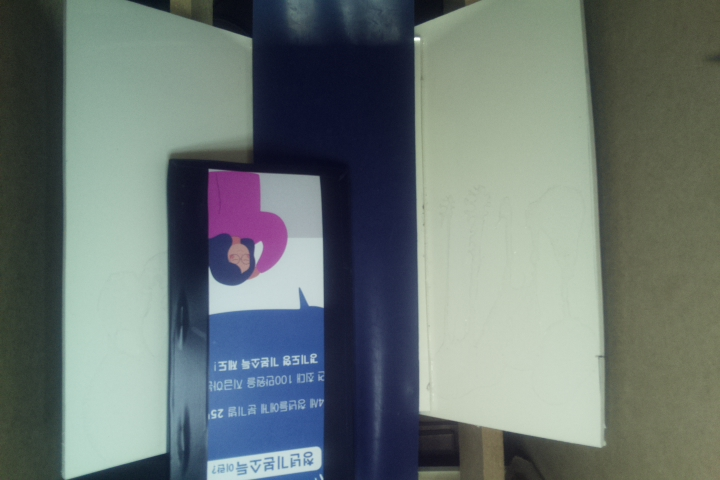book: (170, 157, 352, 480)
